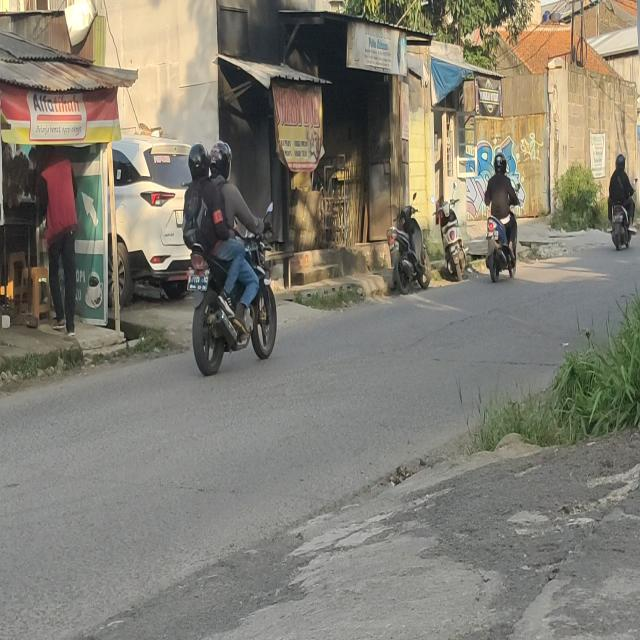helmet: (188, 139, 208, 179), (211, 141, 232, 178), (494, 152, 506, 175), (616, 154, 626, 170)
